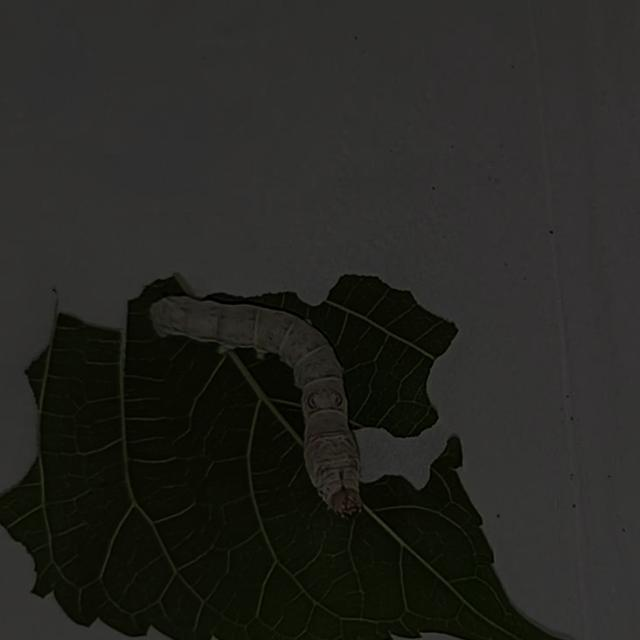Healthy: (138, 279, 386, 525)
